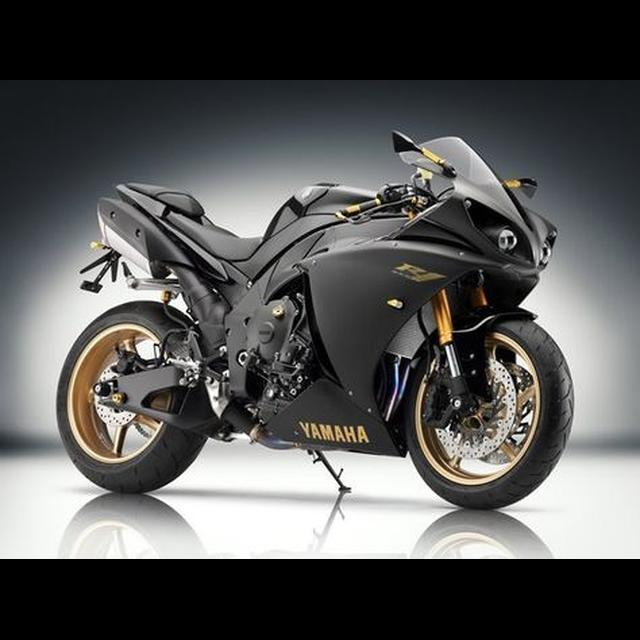motorcycle: (51, 119, 581, 515)
